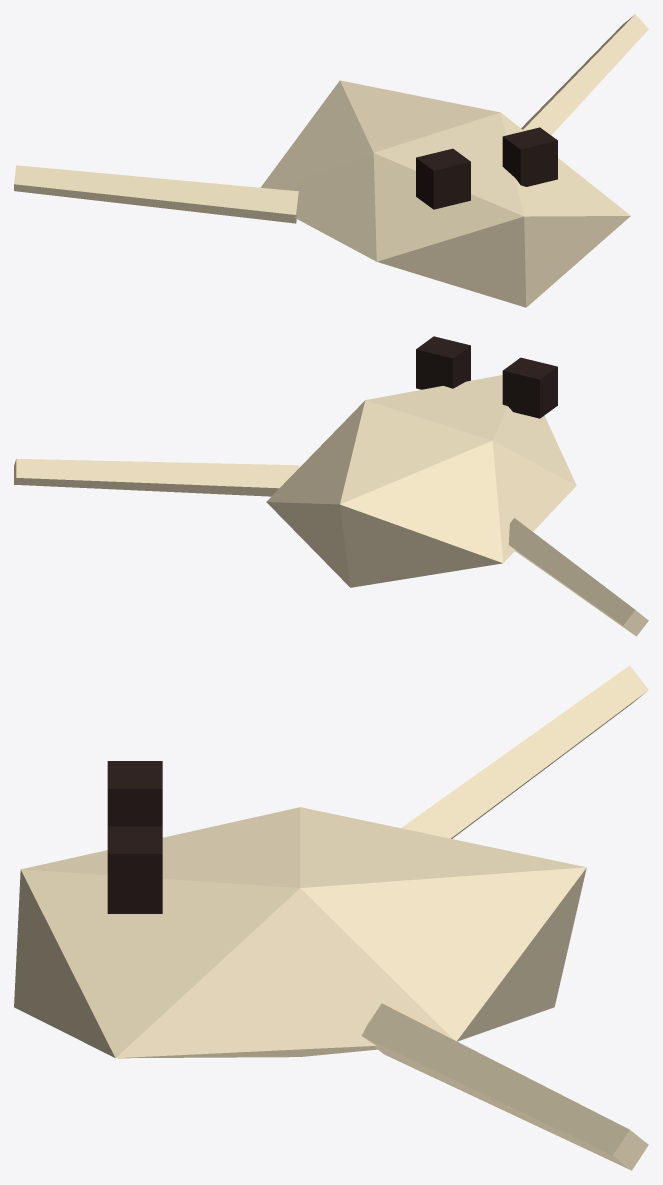
File: CA_Calavera_Res.obj
3 views of the same model, one above another, from view 1: azimuth 30°, elevation 25°; view 2: azimuth 150°, elevation 25°; view 3: azimuth 270°, elevation 25° (orthographic). The views are drawn at different scales.
Visible parts, largest first — view 1: CA_Calavera_Res; view 2: CA_Calavera_Res; view 3: CA_Calavera_Res.
Boxes of the visible parts, x1,y1,x2,y2 form: CA_Calavera_Res: (14,14,648,307); CA_Calavera_Res: (14,336,648,636); CA_Calavera_Res: (14,665,648,1170).
Bounding box in the file's own units: 2.05 × 0.4 × 1.15.
